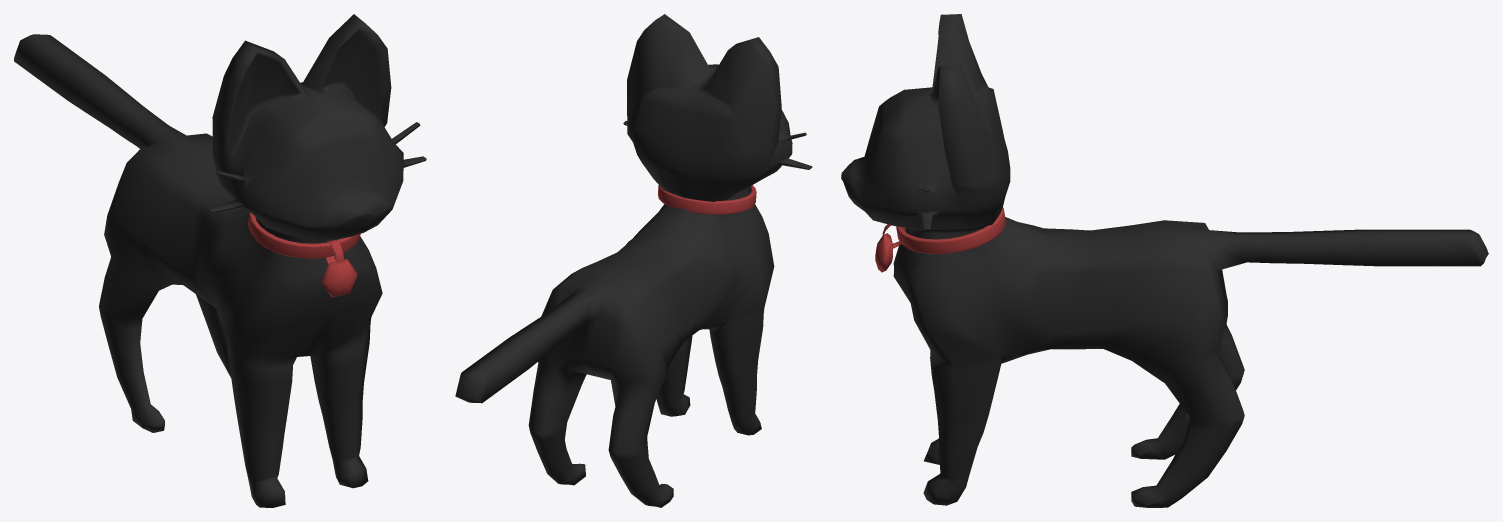
File: kittycat.fbx
3 views of the same model, side by side, from view 1: azimuth 30°, elevation 25°; view 2: azimuth 150°, elevation 25°; view 3: azimuth 270°, elevation 25° (orthographic). The views are drawn at different scales.
Visible parts, largest first — view 1: Cat, Collar, Charm1; view 2: Cat, Collar; view 3: Cat, Collar.
Part boxes in pixels (x1,y1,x2,y2): Cat: (14, 14, 426, 507); Collar: (248, 212, 360, 258); Charm1: (321, 240, 357, 297); Cat: (455, 14, 812, 507); Collar: (658, 185, 756, 214); Cat: (841, 14, 1488, 507); Collar: (896, 207, 1005, 254).
Size of the model in its own units: 17.68 by 35.88 by 47.66.
